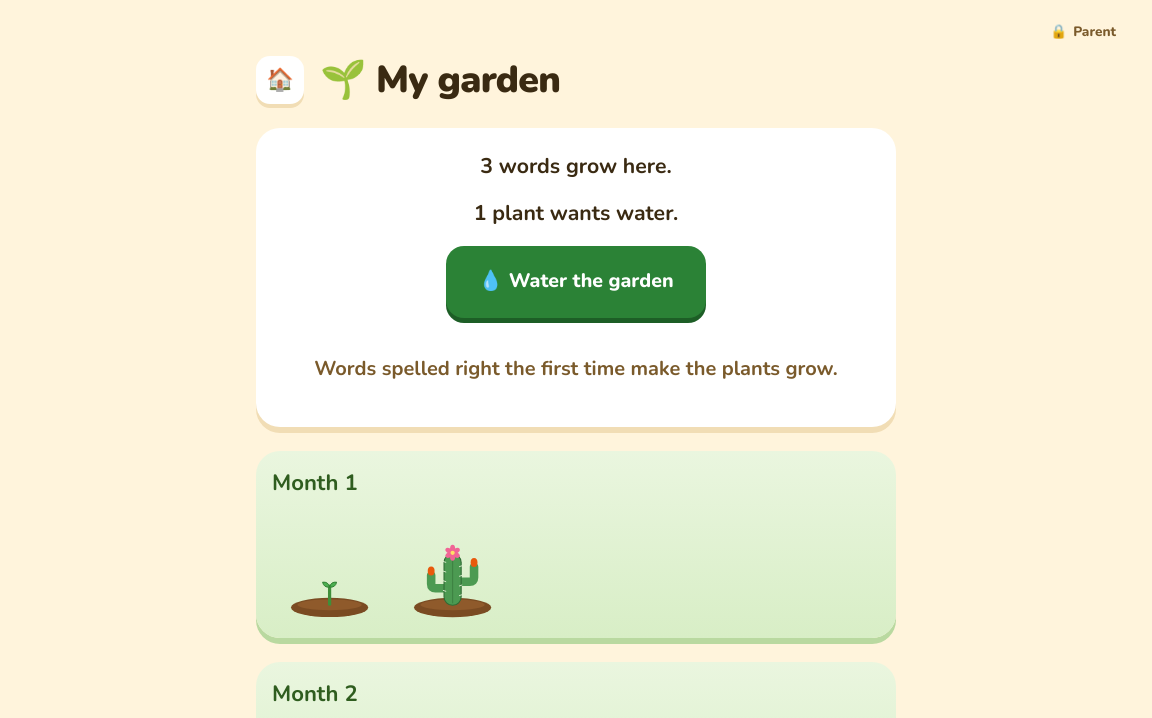
Test: word garden › shows the word and its picture when a plant is tapped
The image size is (1152, 718).
Click the button named "dog: Sprout" at point(330, 568), box [272, 507, 387, 630]
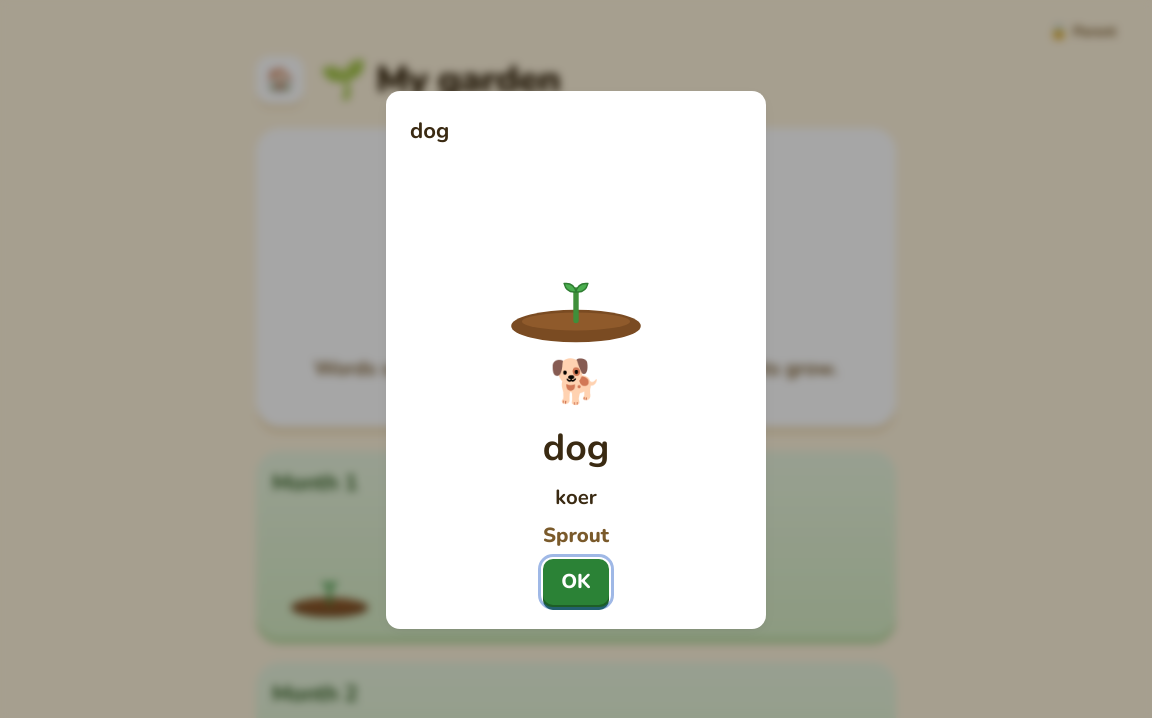
Check: the text "koer" is shown, box [555, 483, 597, 513]
Check: the text "🐕" is shown, box [550, 352, 602, 413]
Check: the text "Sprout" is shown, box [543, 521, 609, 550]
Click the button "OK" at point(576, 582), box [543, 558, 609, 604]
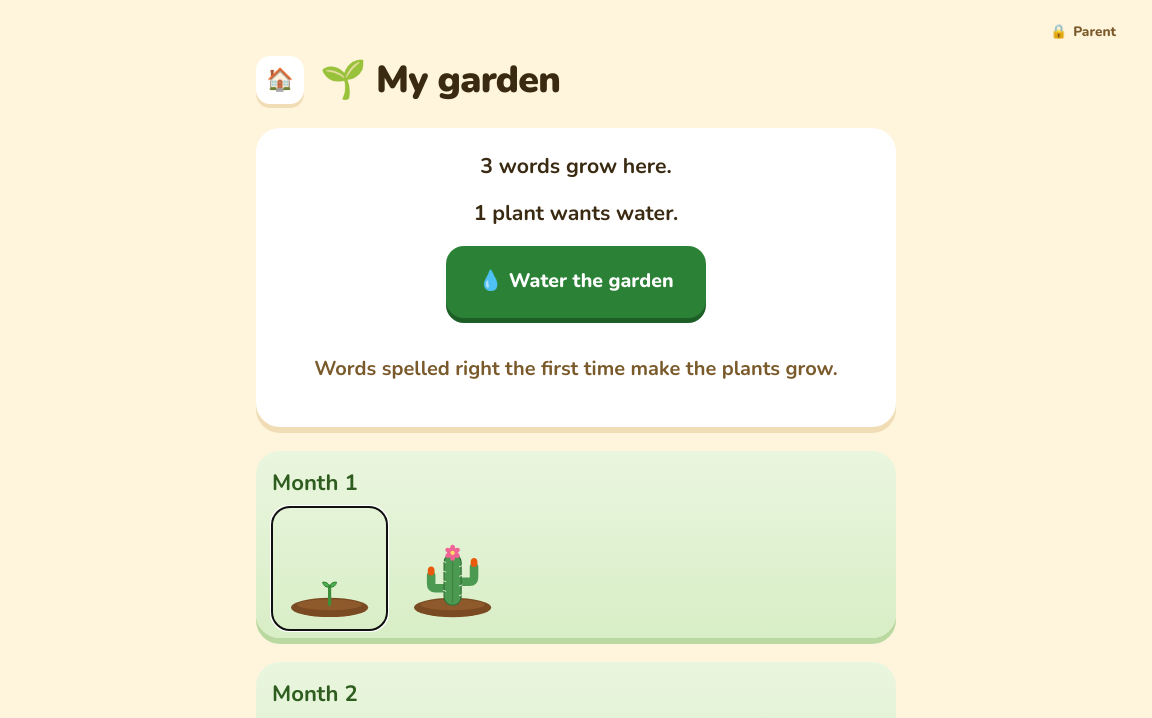
Check: the dialog is gone
